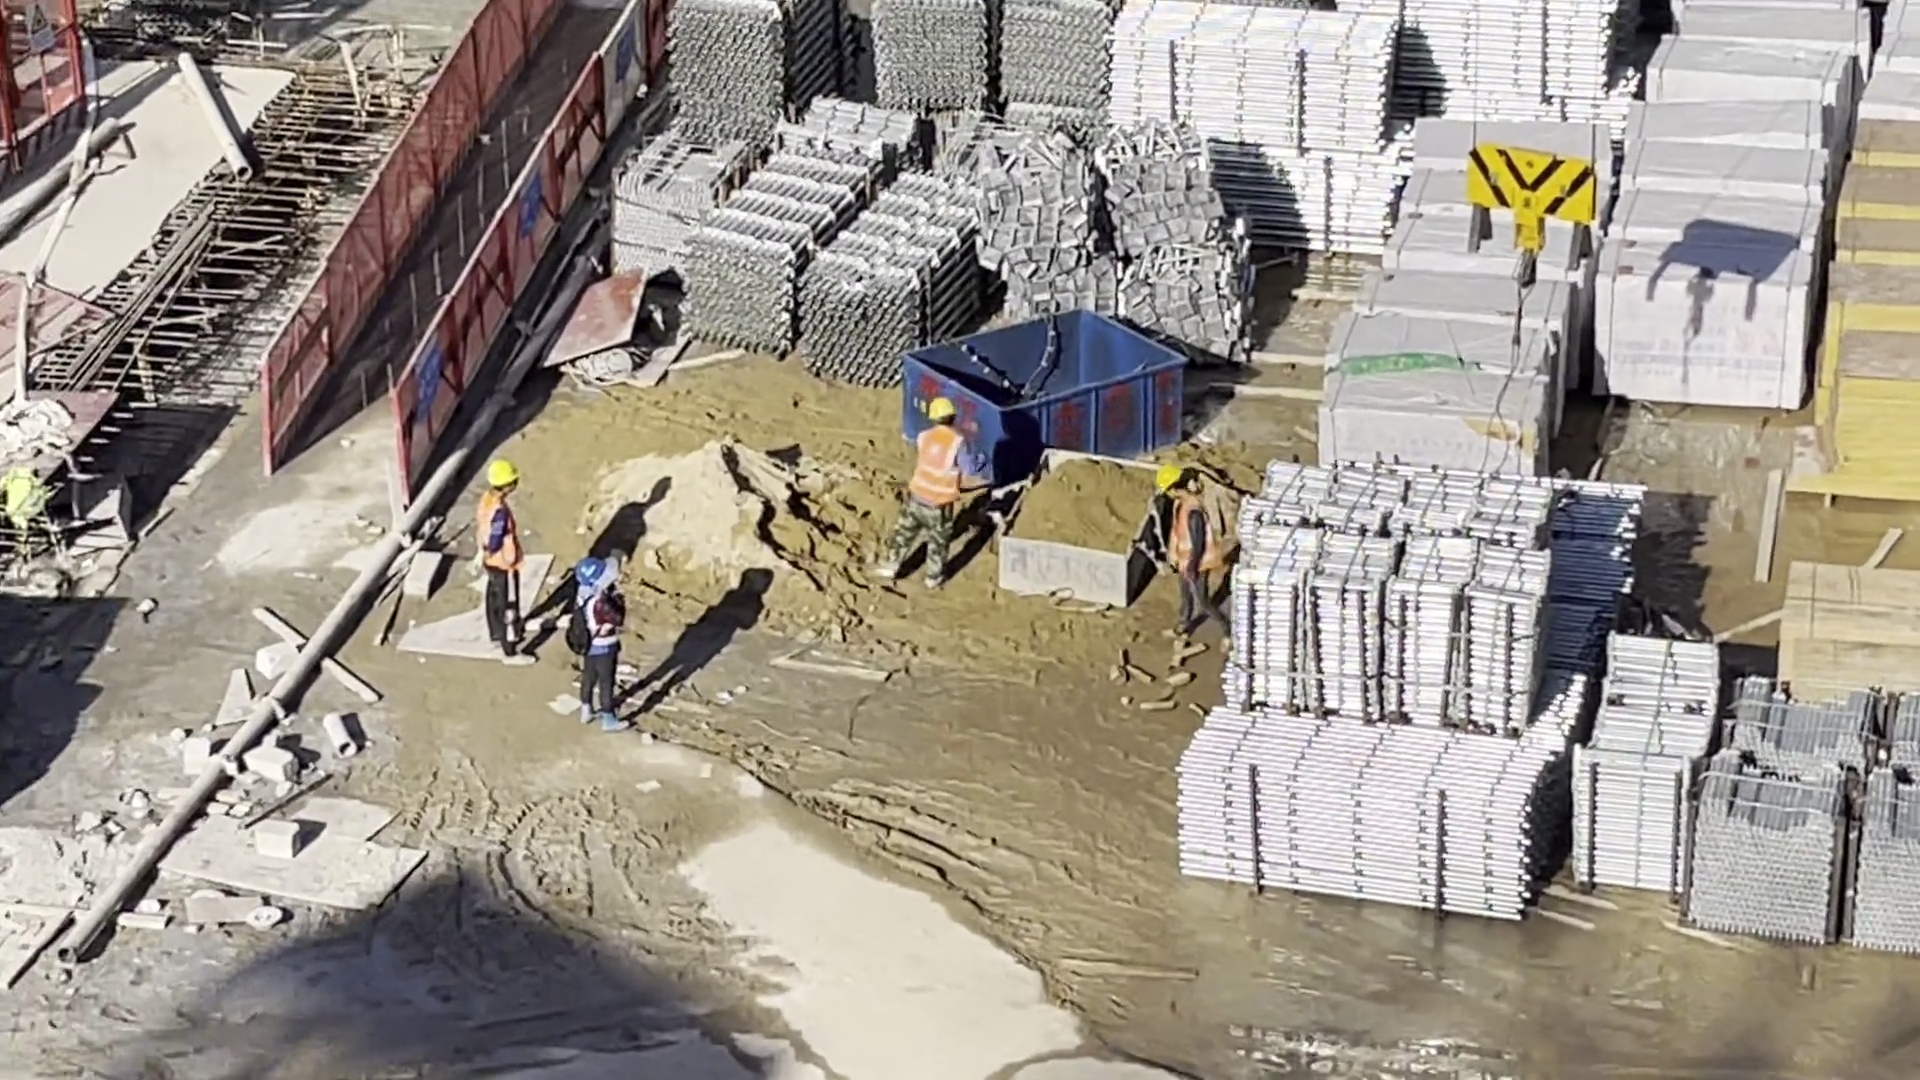fence: (248, 1, 646, 484)
helmet: (472, 448, 531, 507), (917, 382, 971, 431), (568, 549, 615, 597), (1138, 461, 1196, 497)
hook: (1440, 114, 1596, 286)
hopper: (917, 309, 1194, 464), (1011, 437, 1164, 616)
person: (887, 390, 967, 589), (1143, 459, 1227, 634), (463, 462, 535, 662), (565, 555, 630, 718)
scaffold: (1173, 424, 1542, 925), (654, 1, 949, 368), (1125, 6, 1396, 271), (1744, 664, 1920, 935), (1567, 630, 1732, 892), (988, 5, 1126, 152)
vest: (470, 494, 525, 578), (909, 429, 961, 496), (1175, 493, 1221, 570)
